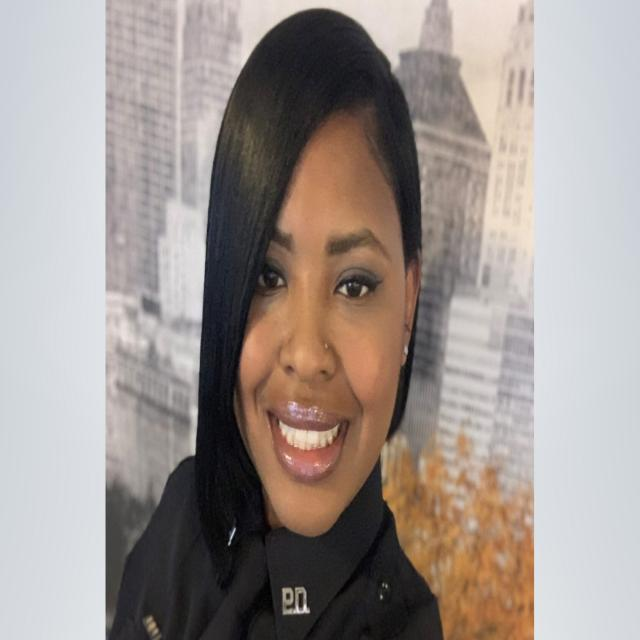police: (114, 5, 444, 640)
